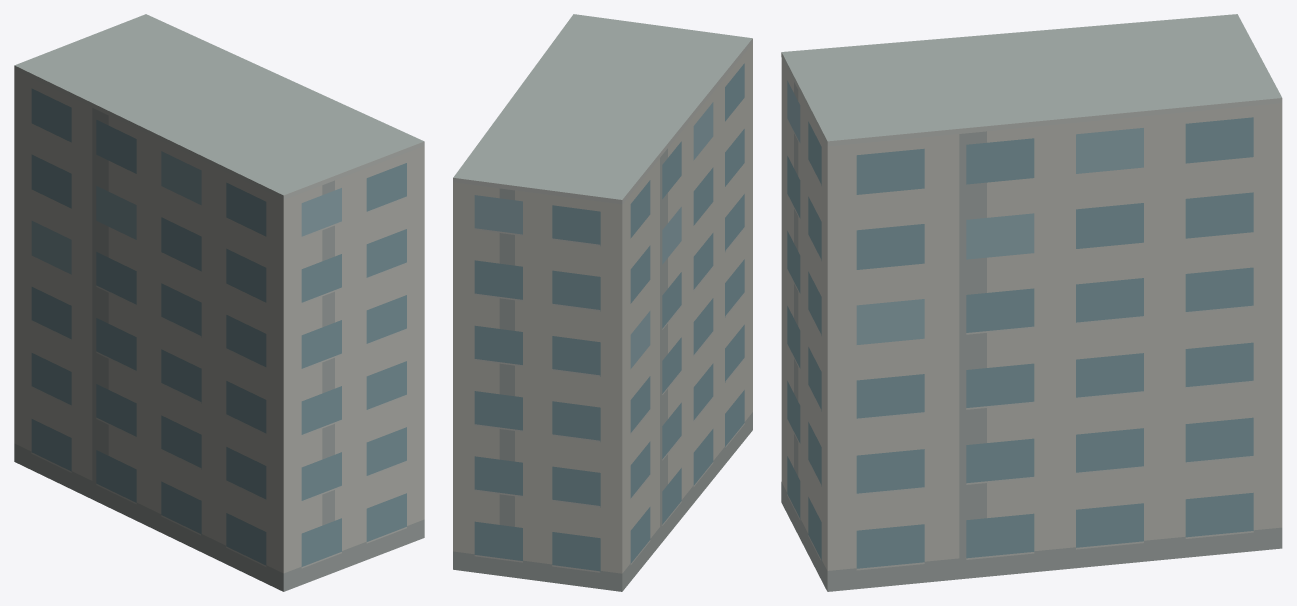
Rendered from survey-upis-32809812.glb.
The picture shows the model from 3 angles, left to right: view 1: azimuth 30°, elevation 25°; view 2: azimuth 150°, elevation 25°; view 3: azimuth 270°, elevation 25°; orthographic projection. The views are drawn at different scales.
Parts seen in each view (by area): view 1: survey-upis-32809812.tmp; view 2: survey-upis-32809812.tmp; view 3: survey-upis-32809812.tmp.
Part boxes in pixels (left/top/right/bottom): survey-upis-32809812.tmp: left=14, top=14, right=424, bottom=591; survey-upis-32809812.tmp: left=453, top=14, right=752, bottom=591; survey-upis-32809812.tmp: left=781, top=14, right=1282, bottom=591.
Size of the model in its own units: 12.68 by 20.9 by 21.07.
